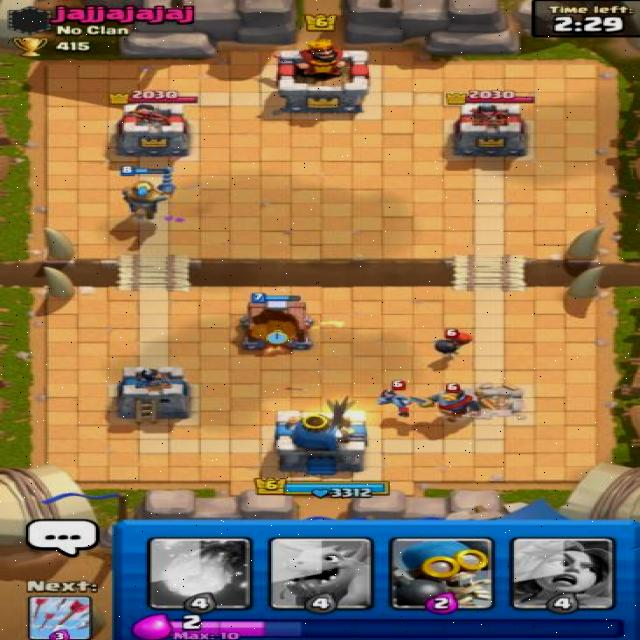Enemy-Bomber: (429, 327, 472, 362)
Enemy-Knight: (413, 381, 484, 423)
Enemy-Minion: (376, 377, 426, 419)
Player-GoblinCage: (230, 290, 321, 356)
Player-Prince: (114, 163, 180, 223)
